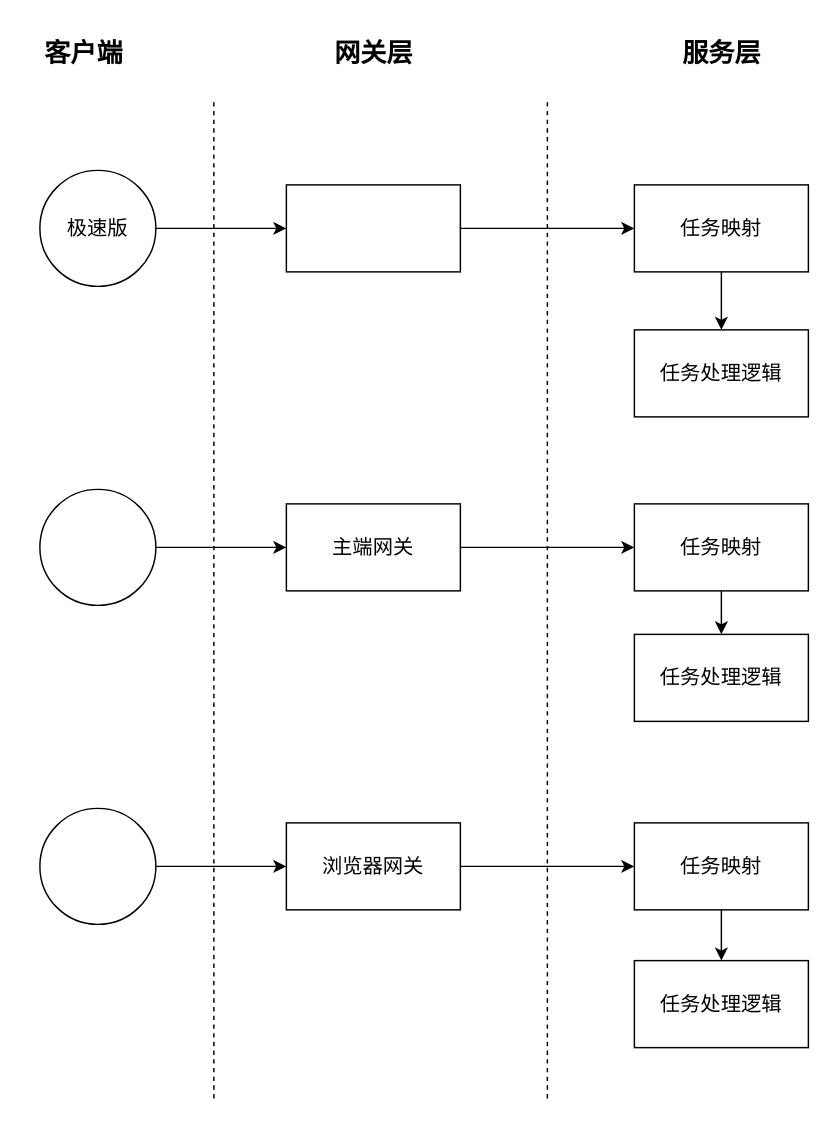
Image size: 834x1125. Some labels were removed from this diagram. Here are the shapes that lost their labels. From the top down, the centre of each, then its label:
At pixel 372 227: "极速版网关".
At pixel 97 546: "主端".
At pixel 97 865: "浏览器".
